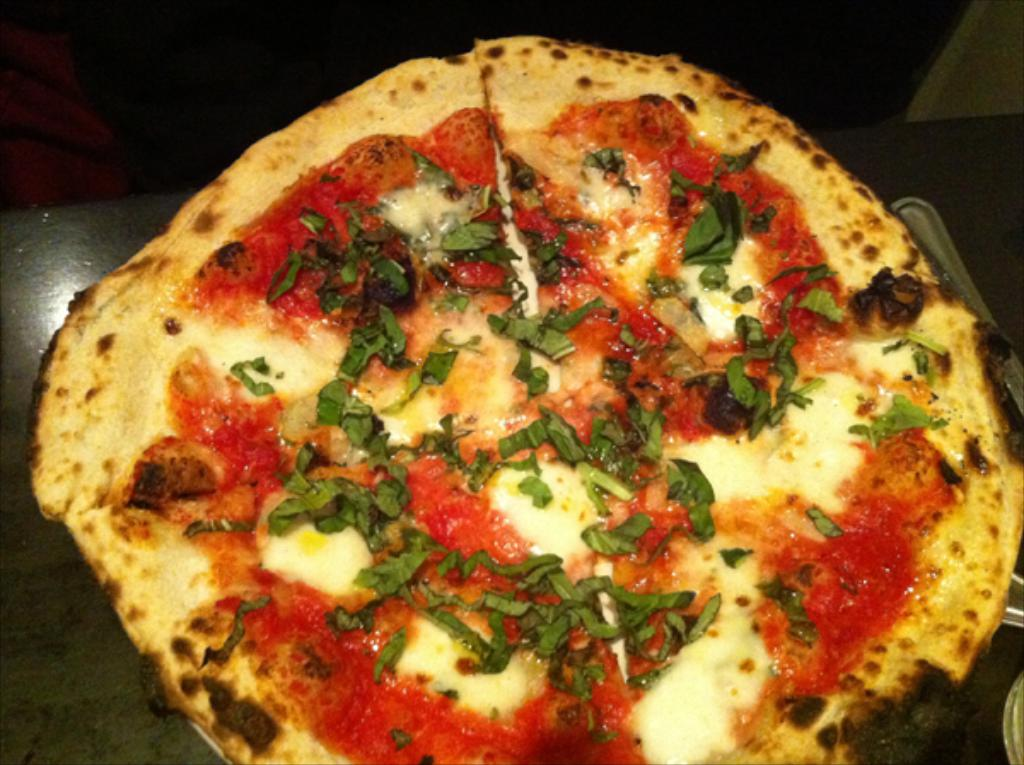Pizza: (51, 29, 1005, 765)
